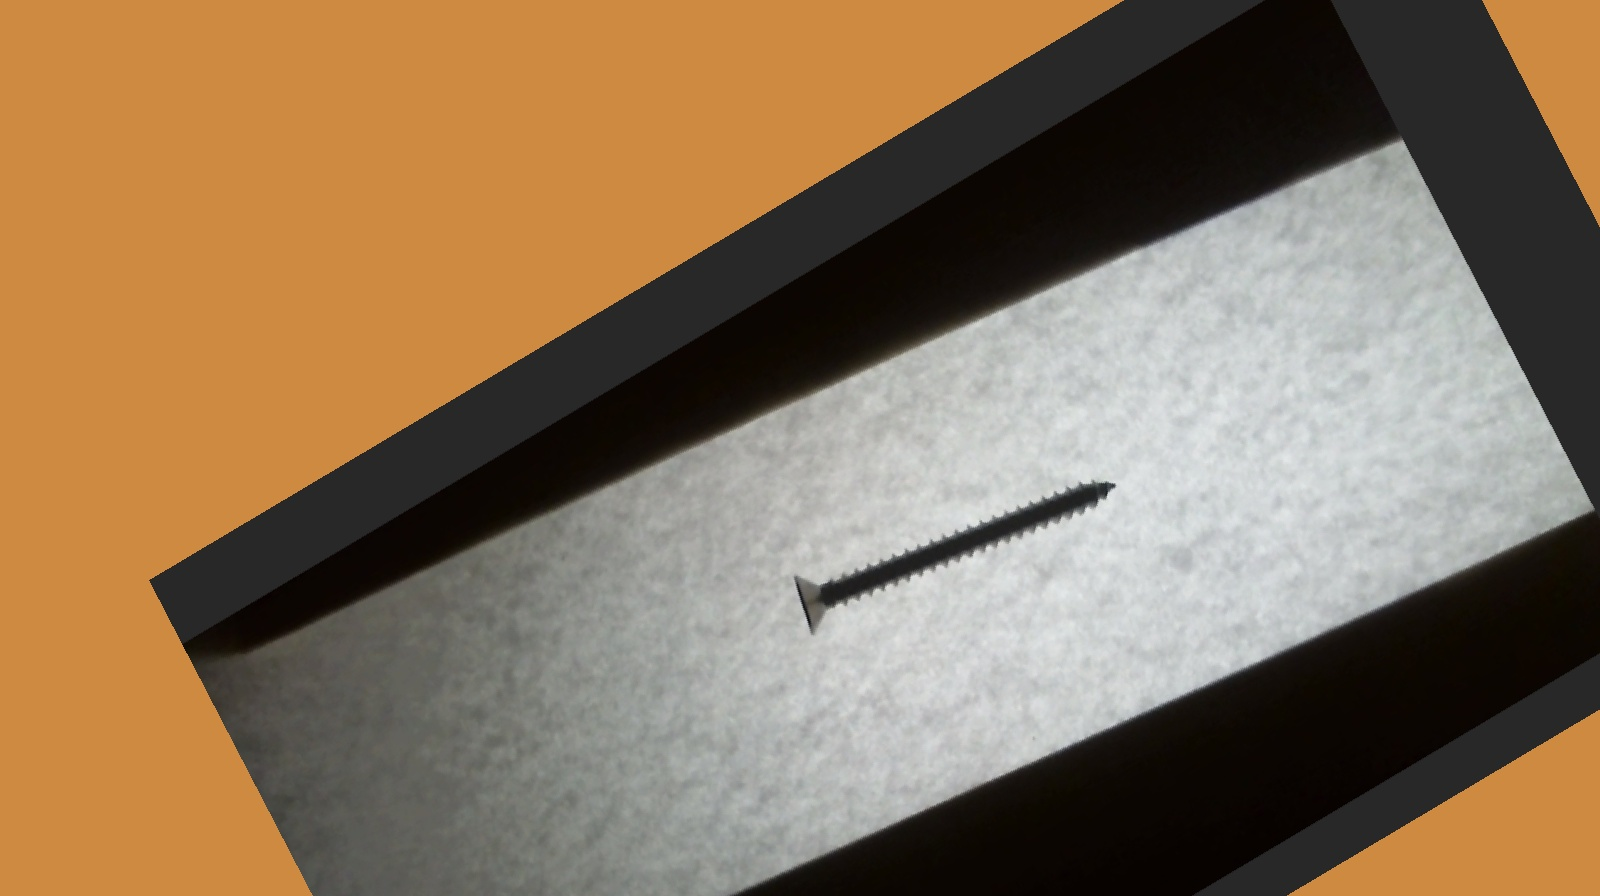S002: (775, 403, 1127, 677)
